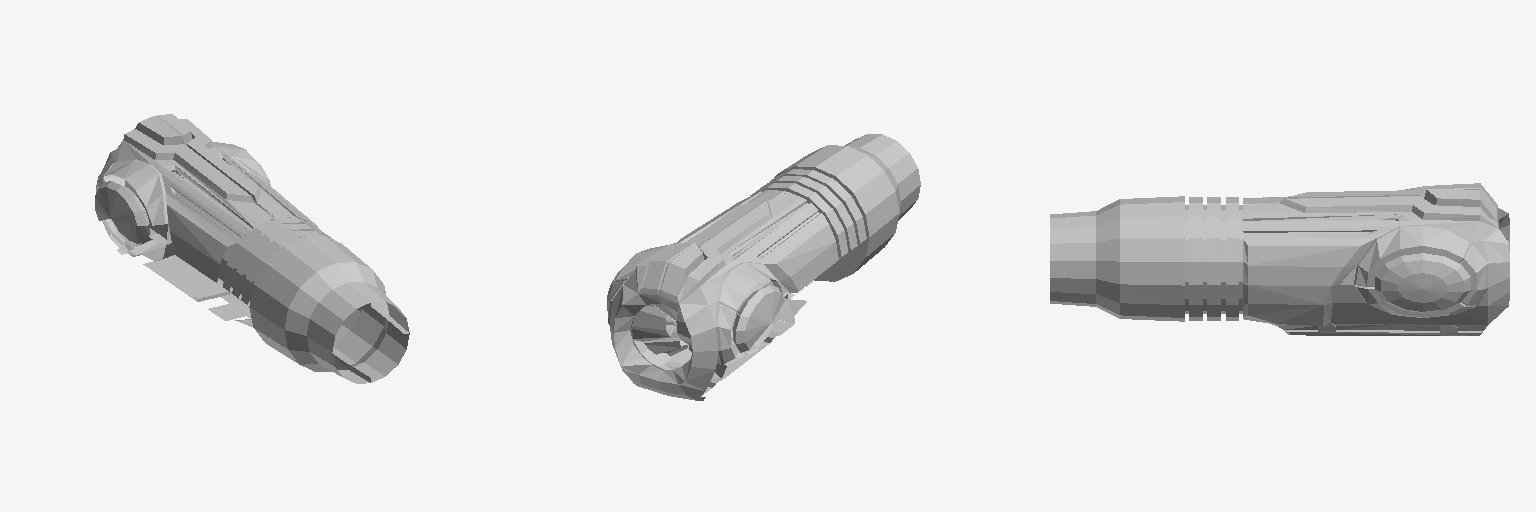
Rendered from Arm Cannon (First Person).obj.
3 renders of one model, left to right at view 1: azimuth 30°, elevation 25°; view 2: azimuth 150°, elevation 25°; view 3: azimuth 270°, elevation 25°, orthographic.
Visible parts, largest first — view 1: 19ae626c_CMDL; view 2: 19ae626c_CMDL; view 3: 19ae626c_CMDL.
Part boxes in pixels (x1,y1,x2,y2): 19ae626c_CMDL: (95,114,409,383); 19ae626c_CMDL: (607,134,920,400); 19ae626c_CMDL: (1050,183,1509,335).
Size of the model in its own units: 0.2108 by 0.1815 by 0.5616.